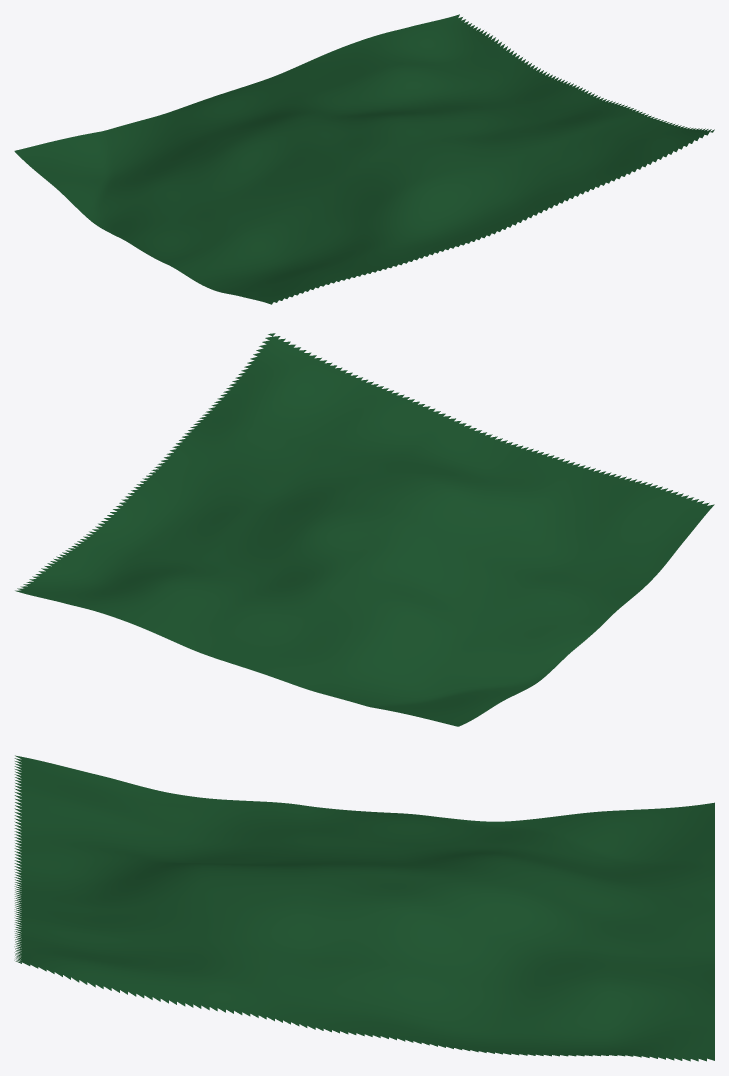
The model's file is payo_land_x2_ym2.glb.
3 views of the same model, one above another, from view 1: azimuth 30°, elevation 25°; view 2: azimuth 150°, elevation 25°; view 3: azimuth 270°, elevation 25° (orthographic). The views are drawn at different scales.
Parts seen in each view (by area): view 1: payo_land_x2_ym2; view 2: payo_land_x2_ym2; view 3: payo_land_x2_ym2.
Part boxes in pixels (<box>): payo_land_x2_ym2: <box>14,14,714,304</box>; payo_land_x2_ym2: <box>15,333,714,726</box>; payo_land_x2_ym2: <box>14,755,714,1061</box>.
Bounding box in the file's own units: 258 × 62.5 × 258.
